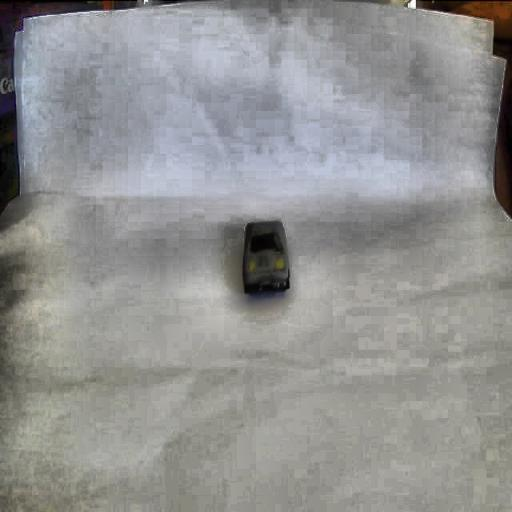normal_car: (240, 220, 292, 296)
